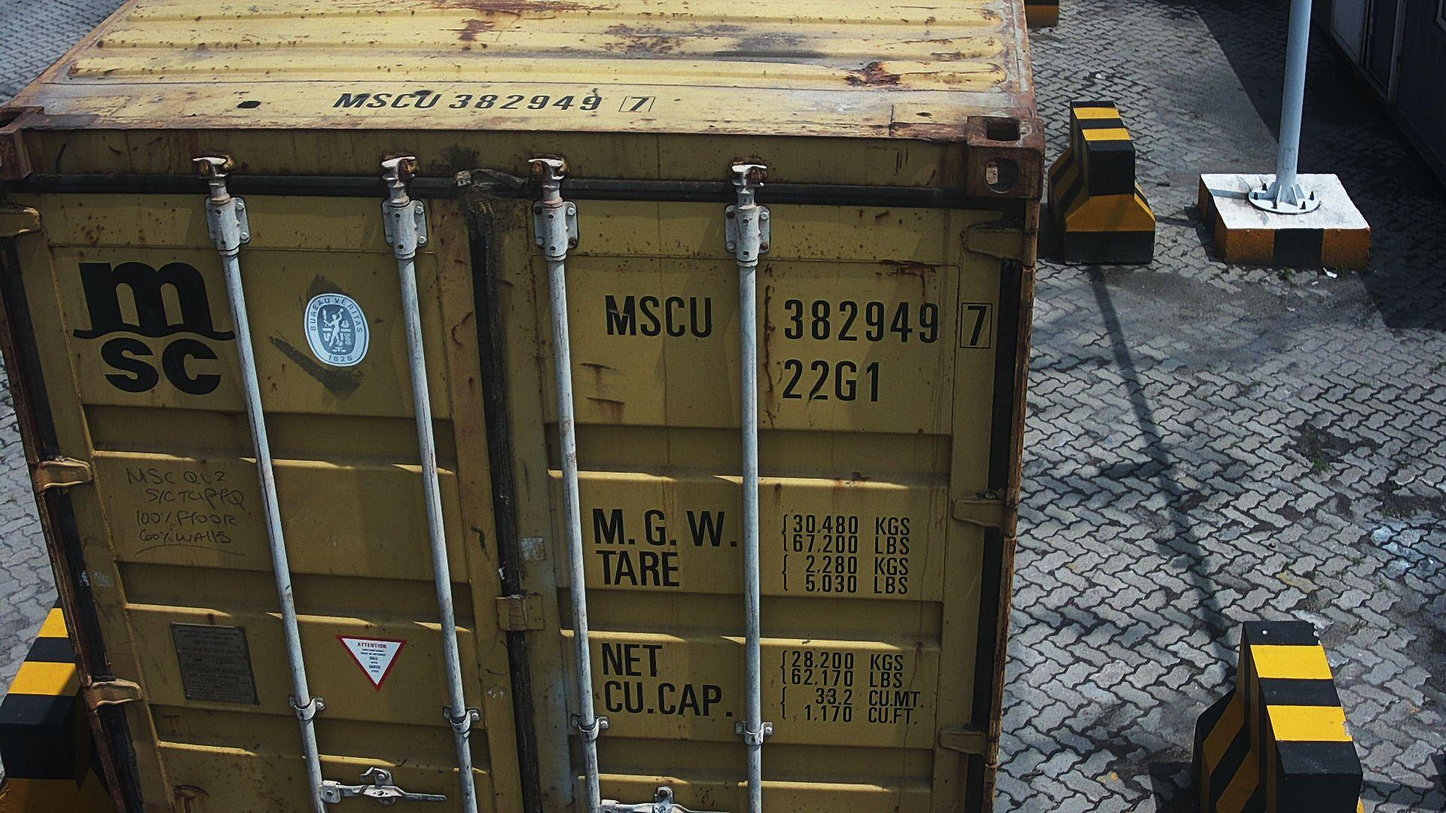container-numbers: (601, 289, 996, 353), (325, 87, 651, 115), (775, 355, 886, 406)
